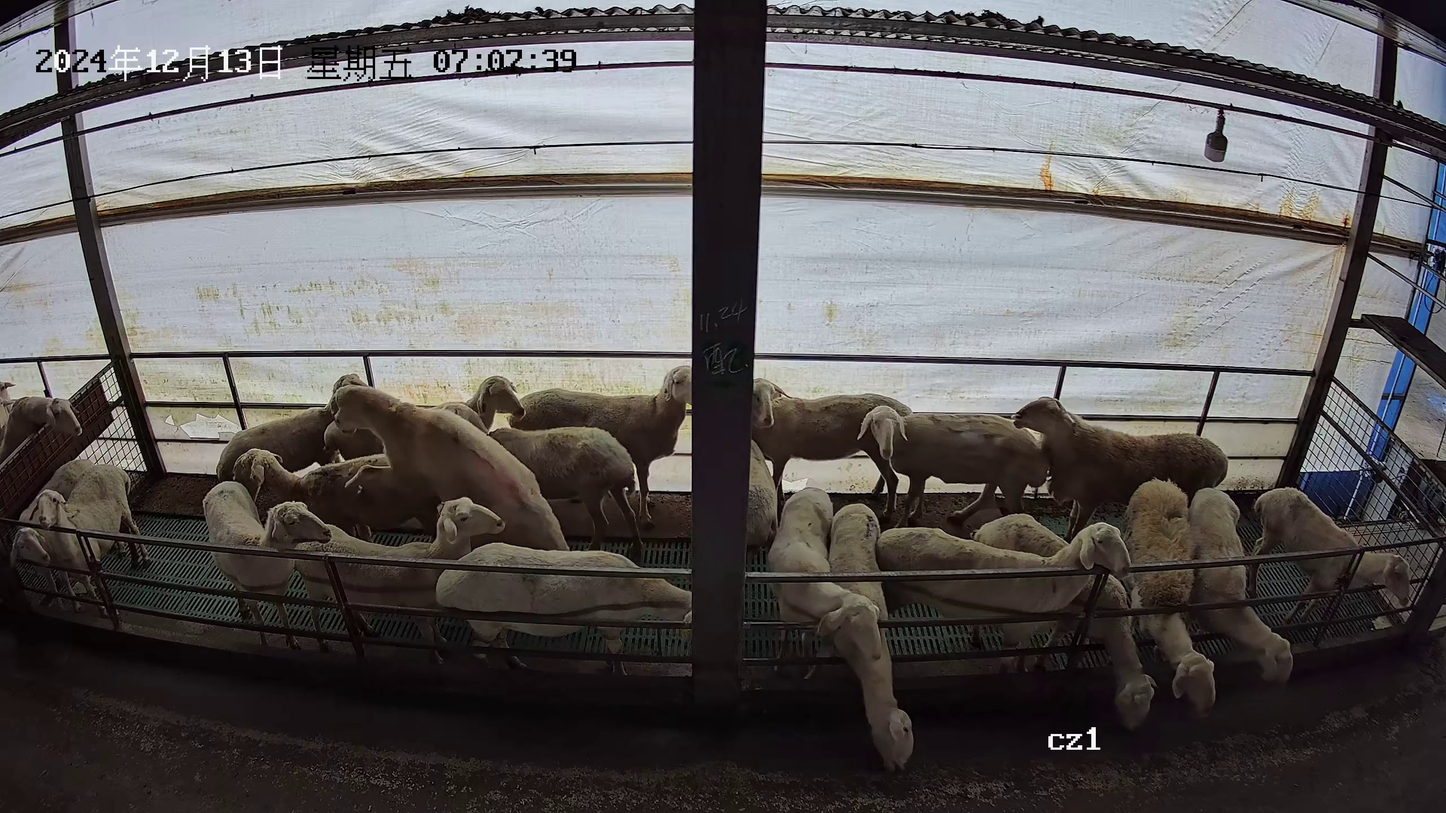Smounting: (226, 381, 568, 550)
mounted: (230, 444, 441, 545)
